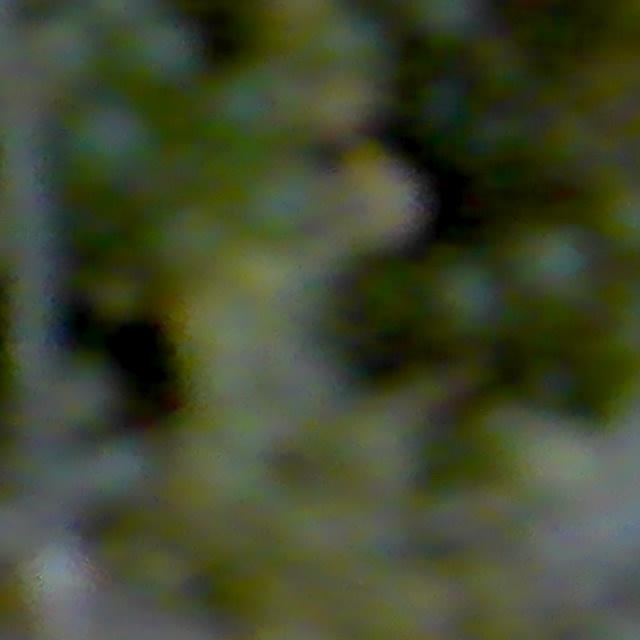SeaGrape: (503, 416, 608, 512), (66, 98, 160, 189), (241, 155, 332, 243), (508, 221, 594, 308), (150, 200, 233, 280), (17, 539, 97, 621), (119, 14, 199, 89), (27, 12, 103, 89), (429, 260, 504, 338), (308, 6, 384, 80), (599, 178, 639, 262), (91, 269, 146, 322), (415, 77, 466, 130)
